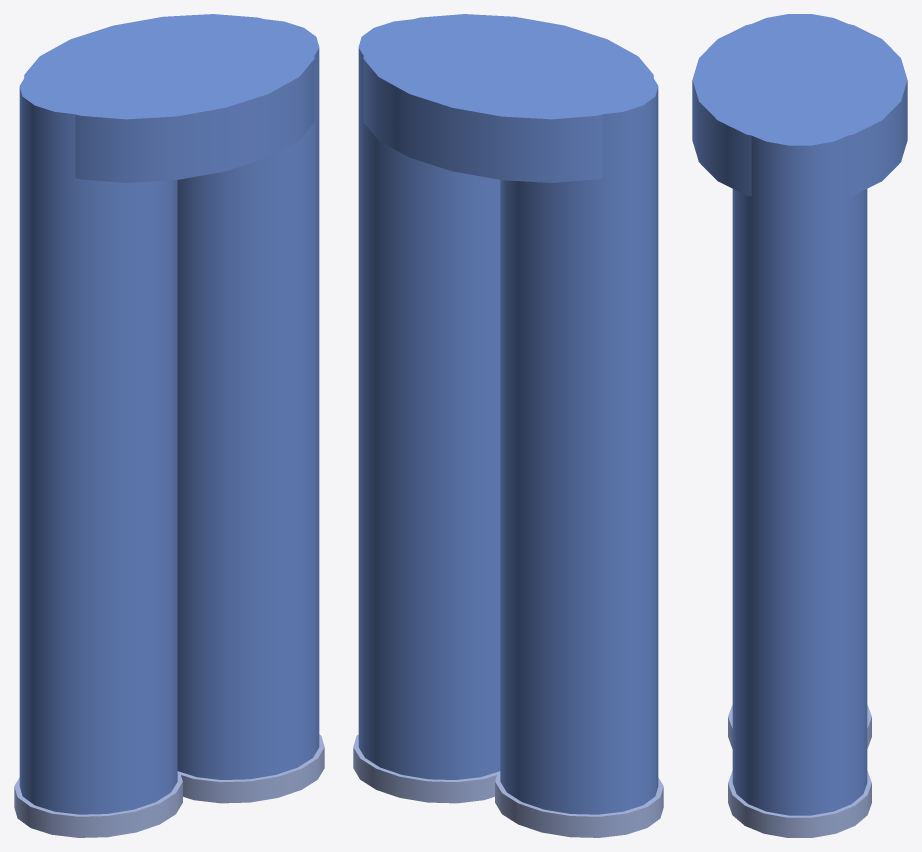
File: VM-DAM-SH40243485.glb
The picture shows the model from 3 angles, left to right: view 1: azimuth 30°, elevation 25°; view 2: azimuth 150°, elevation 25°; view 3: azimuth 270°, elevation 25°; orthographic projection. The views are drawn at different scales.
Visible parts, largest first — view 1: Jean Recto de Tiro Alto; view 2: Jean Recto de Tiro Alto; view 3: Jean Recto de Tiro Alto.
Part boxes in pixels (x1,y1,x2,y2): Jean Recto de Tiro Alto: (14,14,324,837); Jean Recto de Tiro Alto: (353,14,663,837); Jean Recto de Tiro Alto: (692,14,907,837).
Size of the model in its own units: 0.4177 by 0.9894 by 0.2794.
